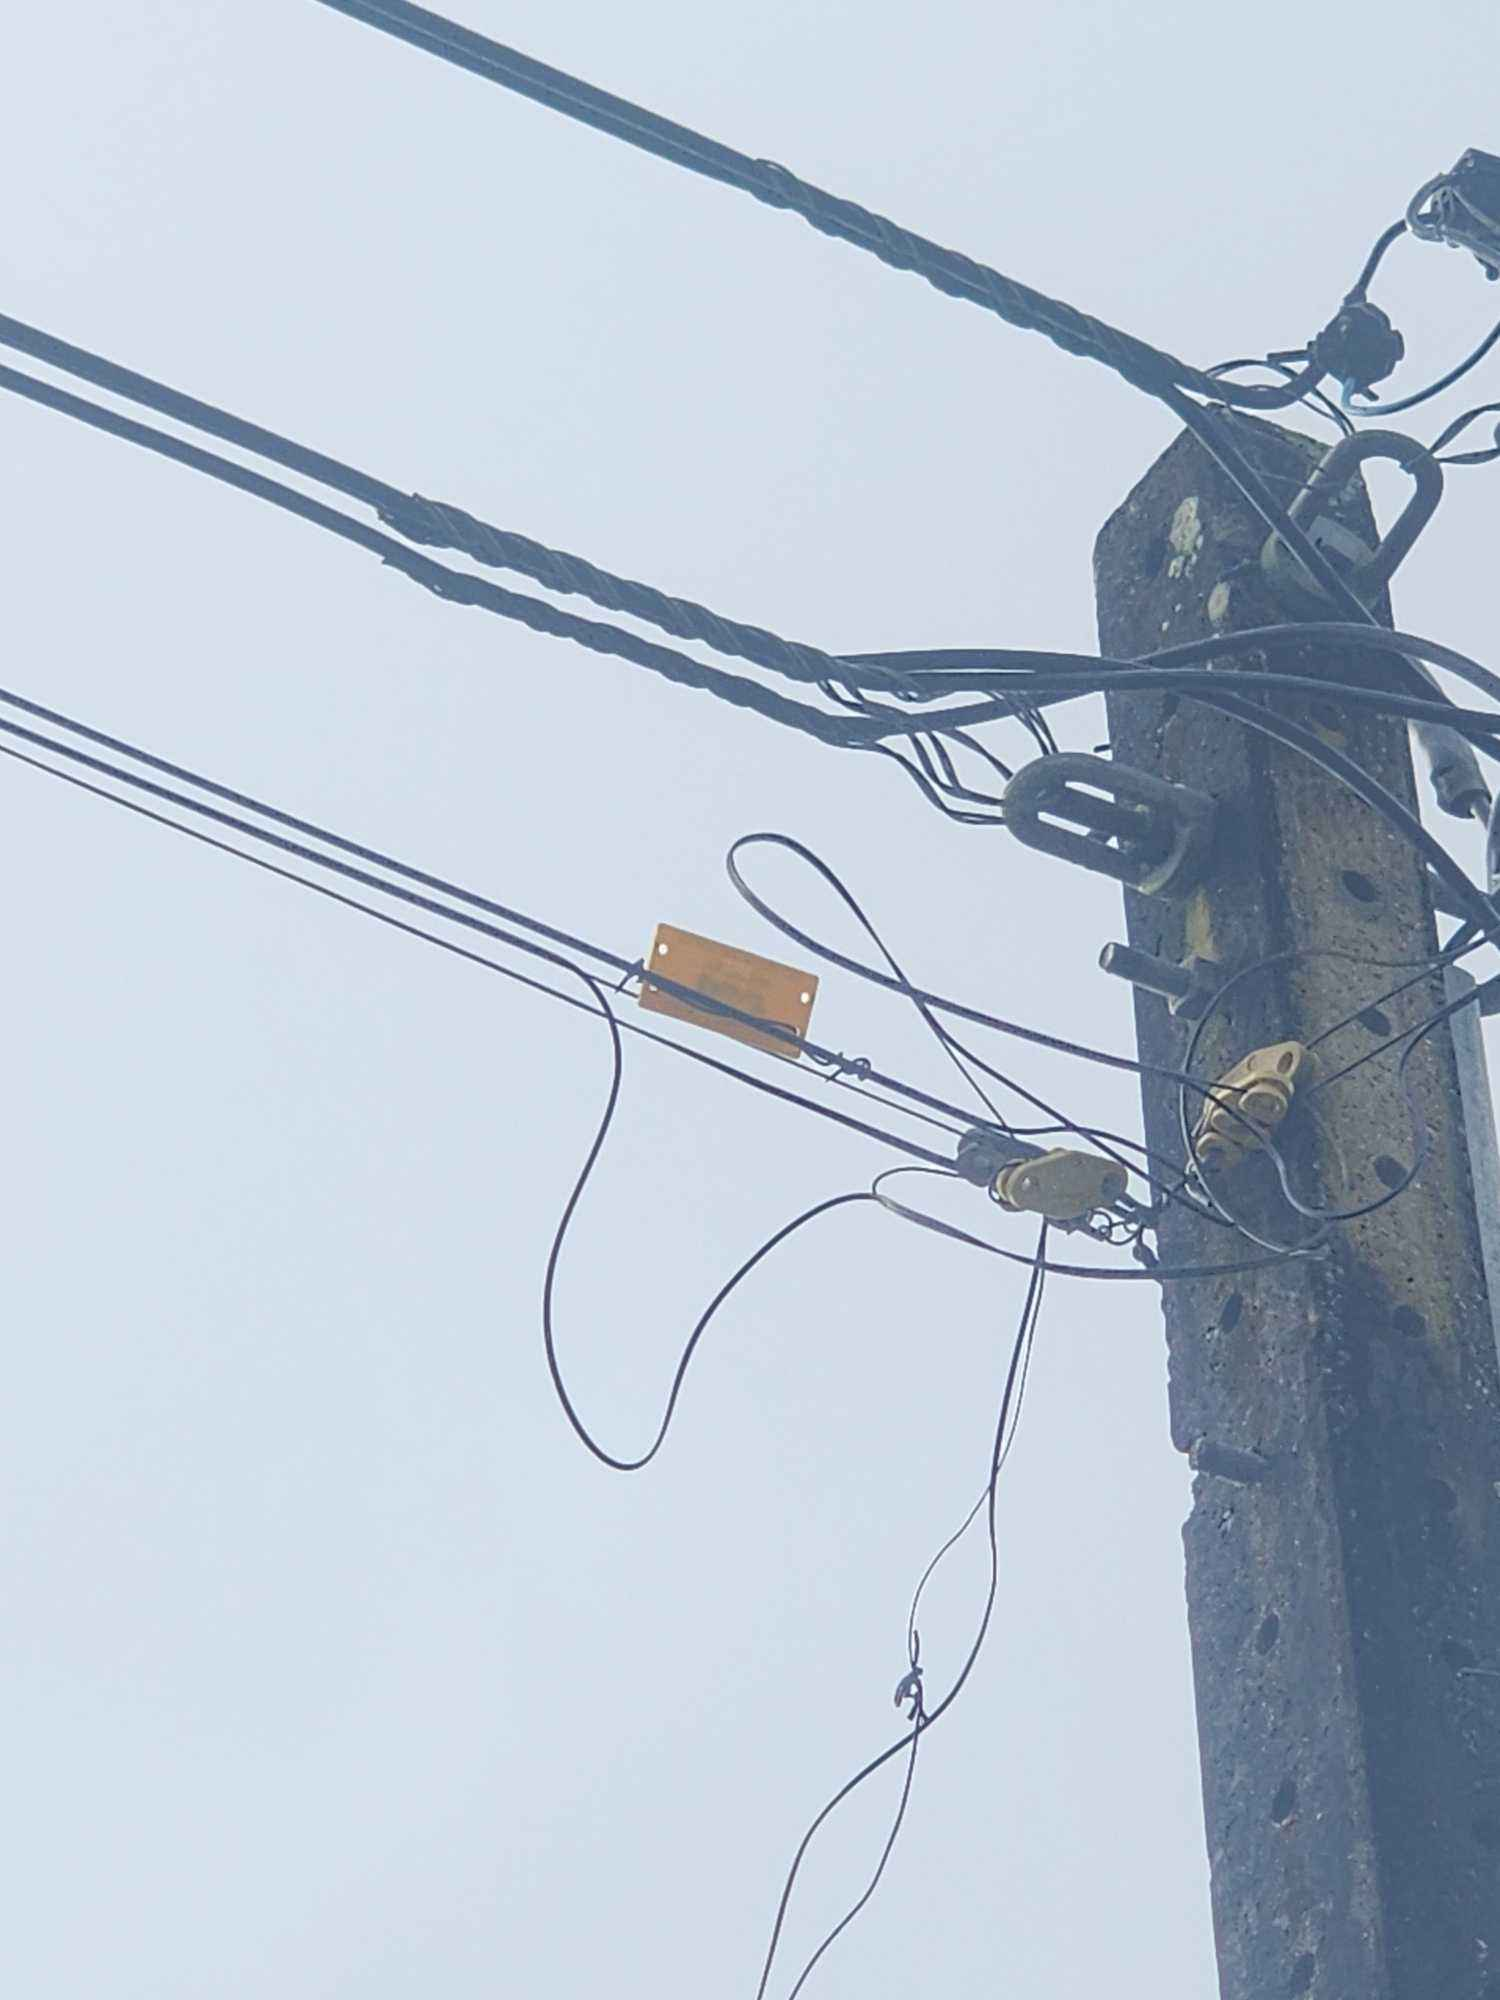drop: (1153, 1039, 1344, 1211), (942, 1096, 1130, 1250)
fibra_optica: (605, 888, 827, 1065)
poste: (1075, 433, 1500, 2000)
